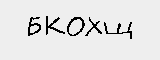Б: (25, 15, 44, 39)
К: (42, 14, 63, 41)
О: (66, 16, 83, 39)
Х: (86, 17, 104, 39)
Щ: (103, 19, 134, 41)
